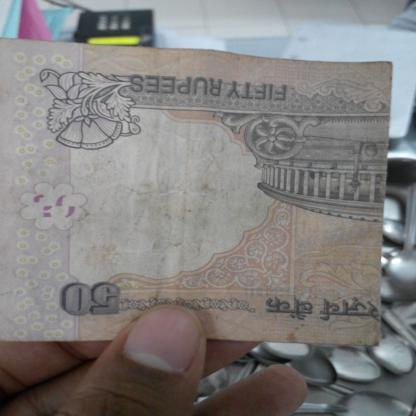Old50Back: (0, 37, 393, 344)
